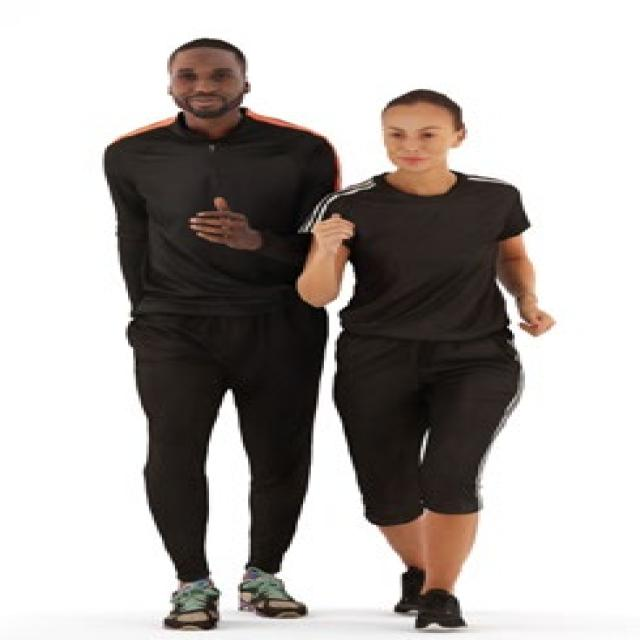running: (298, 87, 546, 633), (97, 35, 304, 631)
